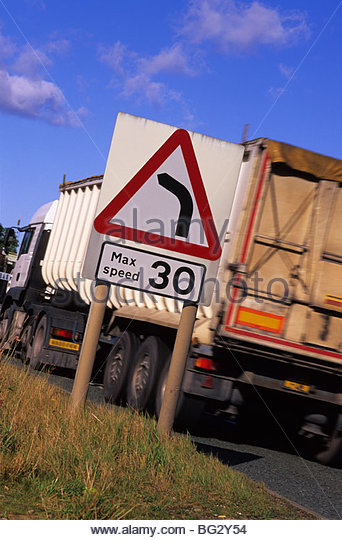Bend_to_left: (94, 127, 224, 261)
